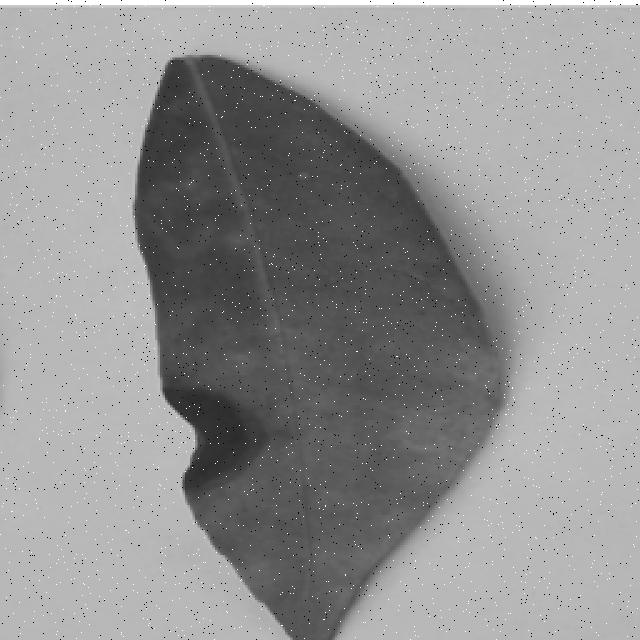canker: (132, 50, 507, 640)
